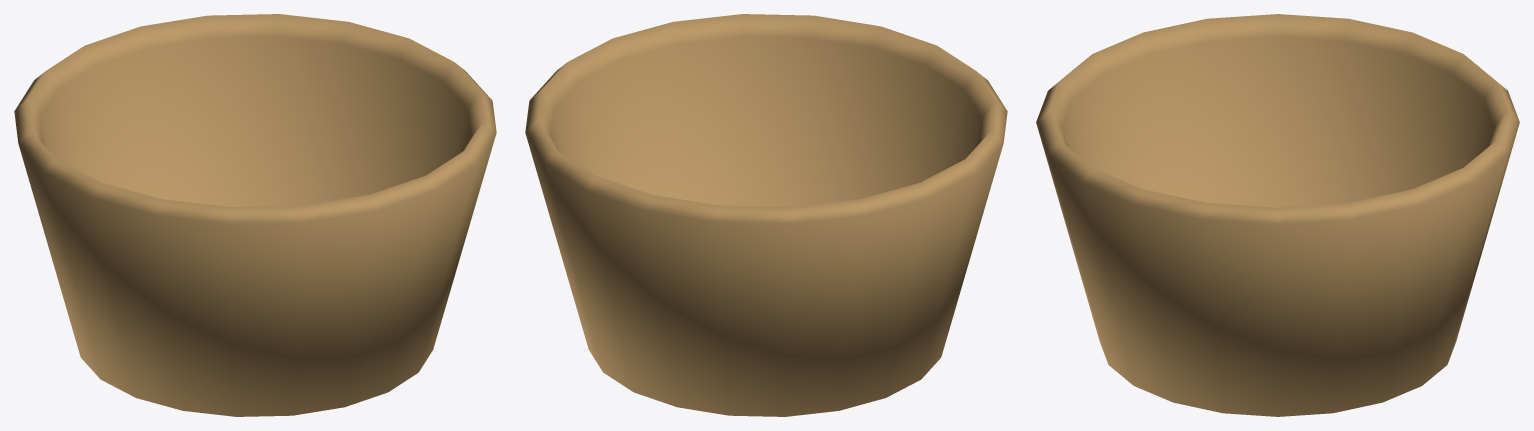
Rendered from basket-study-normal.glb.
The picture shows the model from 3 angles, left to right: view 1: azimuth 30°, elevation 25°; view 2: azimuth 150°, elevation 25°; view 3: azimuth 270°, elevation 25°; orthographic projection.
Visible parts, largest first — view 1: basket-study; view 2: basket-study; view 3: basket-study.
Boxes of the visible parts, x1,y1,x2,y2 form: basket-study: (14, 14, 496, 416); basket-study: (525, 14, 1007, 416); basket-study: (1036, 14, 1519, 416).
Bounding box in the file's own units: 0.76 × 0.4 × 0.76.
